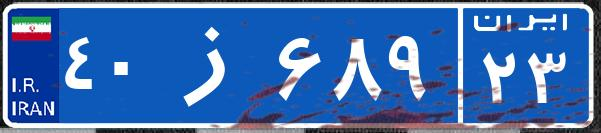0: (110, 28, 158, 105)
2: (475, 38, 525, 113)
3: (525, 38, 570, 115)
4: (57, 26, 110, 107)
6: (273, 28, 330, 110)
8: (330, 28, 385, 110)
9: (385, 28, 445, 110)
ز: (158, 15, 273, 115)
